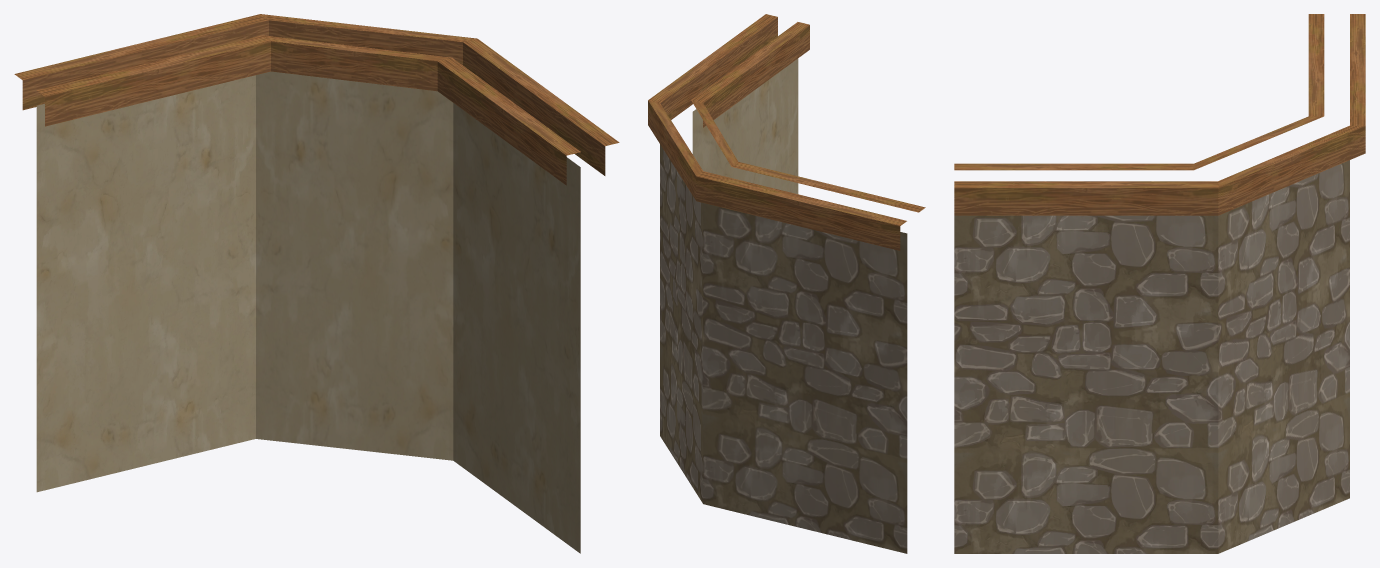
The model's file is overhang-unevenbrick-corner-front.glb.
3 renders of one model, left to right at view 1: azimuth 30°, elevation 25°; view 2: azimuth 150°, elevation 25°; view 3: azimuth 270°, elevation 25°, orthographic. The views are drawn at different scales.
Visible parts, largest first — view 1: Overhang_UnevenBrick_Corner_Front; view 2: Overhang_UnevenBrick_Corner_Front; view 3: Overhang_UnevenBrick_Corner_Front.
Part boxes in pixels (x1,y1,x2,y2): Overhang_UnevenBrick_Corner_Front: (14, 14, 619, 553); Overhang_UnevenBrick_Corner_Front: (648, 14, 925, 553); Overhang_UnevenBrick_Corner_Front: (954, 14, 1365, 553).
Size of the model in its own units: 3.12 by 3.12 by 3.12.
3 materials, 3 textured.
